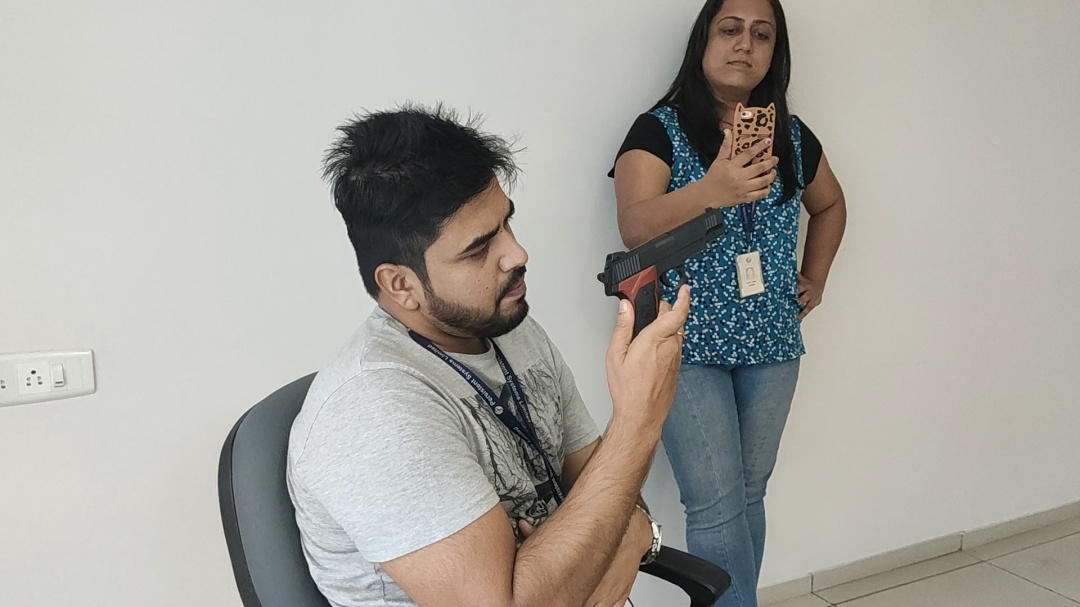gun: (597, 208, 728, 327)
